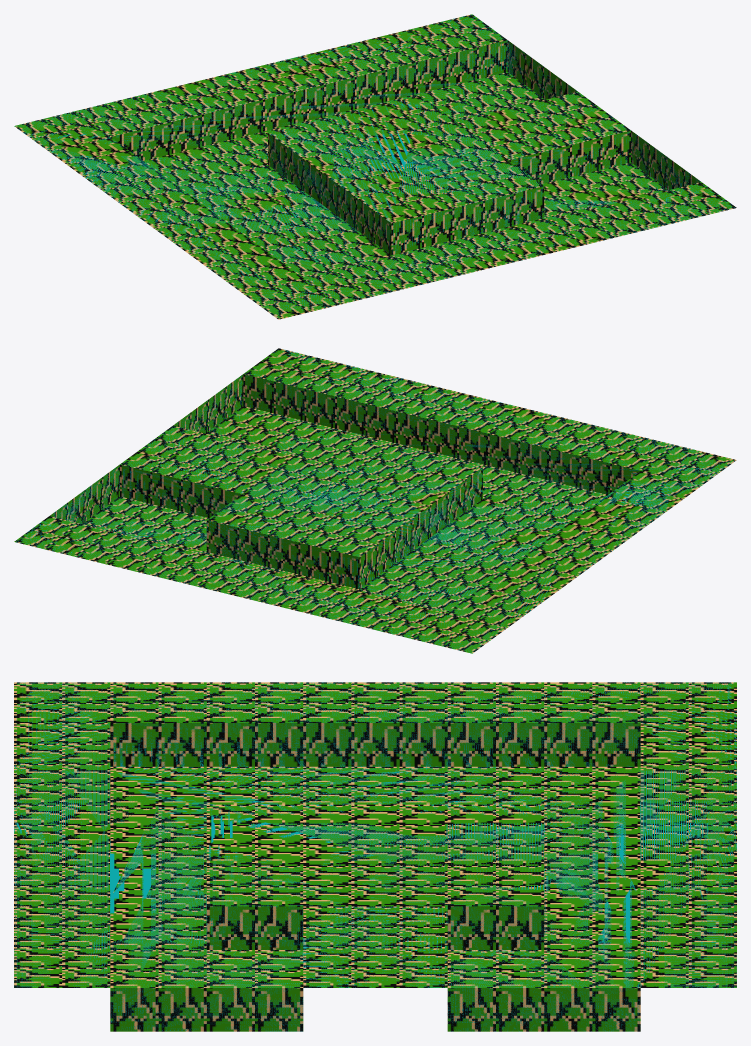
The model's file is Dungeon Floor Water T.fbx.
3 renders of one model, top to bottom at view 1: azimuth 30°, elevation 25°; view 2: azimuth 150°, elevation 25°; view 3: azimuth 270°, elevation 25°, orthographic. The views are drawn at different scales.
Parts seen in each view (by area): view 1: group_0; view 2: group_0; view 3: group_0.
Part boxes in pixels (x1,y1,x2,y2): group_0: (14,14,736,319); group_0: (14,348,736,653); group_0: (14,682,736,1031).
Size of the model in its own units: 1500 by 100 by 1500.
